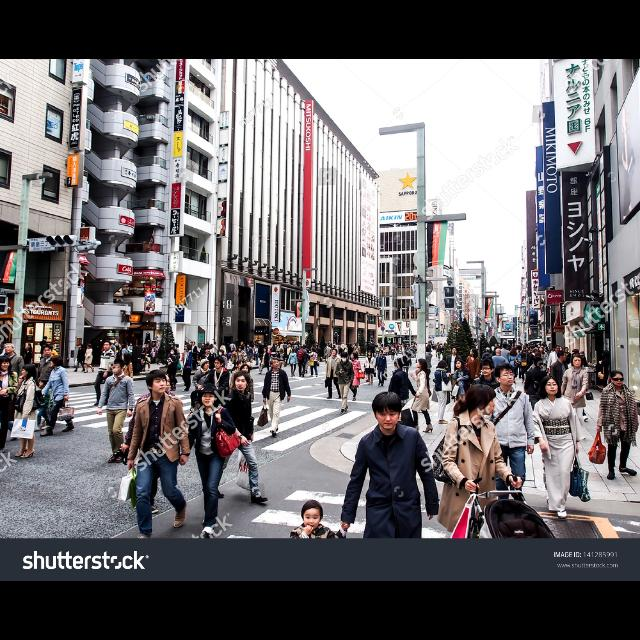head: (372, 392, 402, 432), (468, 385, 497, 417), (302, 501, 324, 531), (146, 370, 168, 394), (147, 370, 167, 394), (495, 364, 515, 386), (233, 371, 250, 391), (544, 376, 560, 396), (202, 388, 216, 408), (610, 371, 626, 387), (22, 365, 36, 379), (113, 359, 125, 375), (50, 355, 64, 367), (42, 344, 54, 358), (482, 363, 494, 377), (0, 356, 10, 371), (4, 344, 16, 354), (572, 356, 582, 368), (534, 357, 544, 368), (214, 359, 223, 371), (270, 359, 280, 369), (394, 360, 404, 370), (438, 360, 448, 370), (237, 360, 246, 370), (417, 359, 427, 368), (40, 379, 49, 388), (202, 360, 210, 370), (341, 353, 349, 363), (456, 360, 464, 370), (558, 352, 566, 362), (104, 342, 112, 351), (122, 353, 130, 362), (350, 353, 358, 361), (242, 364, 248, 374), (332, 349, 338, 357), (452, 347, 458, 355), (469, 350, 476, 356), (495, 349, 501, 356), (78, 344, 84, 350), (170, 349, 176, 355), (184, 345, 190, 351), (554, 346, 560, 352), (602, 351, 608, 357), (87, 344, 91, 350), (312, 348, 316, 354), (368, 351, 372, 357), (379, 350, 383, 356), (486, 348, 490, 354), (503, 344, 507, 350), (44, 336, 48, 342), (303, 345, 307, 349), (28, 344, 32, 348), (404, 352, 408, 356), (512, 348, 516, 352), (302, 344, 304, 350), (366, 356, 369, 360), (292, 351, 294, 354)
person: (127, 369, 193, 549), (120, 368, 188, 518), (178, 383, 238, 537), (530, 374, 592, 522), (480, 364, 536, 520), (208, 370, 270, 508), (586, 370, 640, 482), (96, 358, 136, 466), (38, 354, 76, 438), (472, 358, 504, 444), (560, 354, 590, 442), (387, 358, 421, 434), (260, 358, 292, 438), (523, 356, 551, 446), (36, 344, 64, 430), (14, 364, 38, 460), (409, 359, 435, 435), (1, 343, 26, 421), (0, 355, 18, 455), (93, 341, 117, 407), (228, 360, 252, 416), (432, 359, 452, 426), (548, 350, 570, 410), (335, 351, 355, 415), (232, 364, 254, 422), (452, 358, 472, 419), (208, 357, 230, 411), (190, 359, 213, 409), (33, 378, 53, 432), (446, 347, 466, 401), (325, 348, 343, 400), (348, 351, 366, 401), (118, 352, 134, 408), (465, 348, 481, 396), (596, 350, 612, 398), (165, 348, 181, 394), (180, 342, 194, 393), (546, 345, 564, 381), (491, 347, 507, 385), (374, 349, 388, 388), (497, 343, 511, 382), (39, 336, 55, 366), (508, 347, 520, 385), (364, 350, 376, 386), (305, 348, 319, 378), (296, 345, 308, 379), (299, 344, 311, 376), (401, 350, 413, 382), (22, 342, 34, 372), (74, 343, 86, 373), (83, 344, 95, 374), (288, 348, 298, 378), (482, 347, 494, 371), (363, 356, 371, 384)
